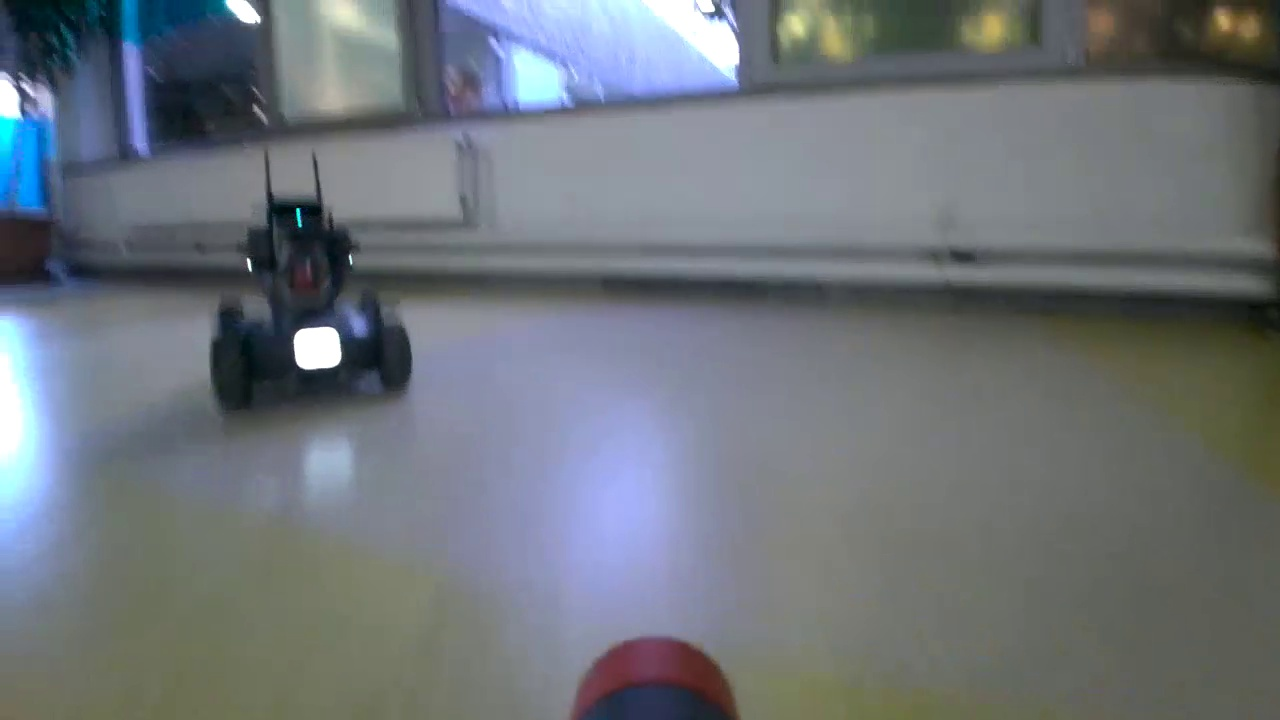robot: (208, 195, 416, 409)
